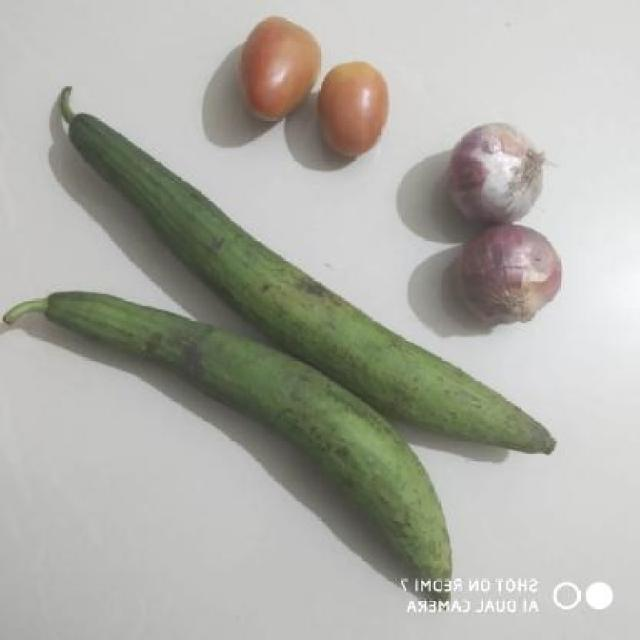Onion: (434, 212, 578, 323), (430, 113, 556, 224)
Tomato: (236, 14, 324, 128), (317, 52, 394, 166)
